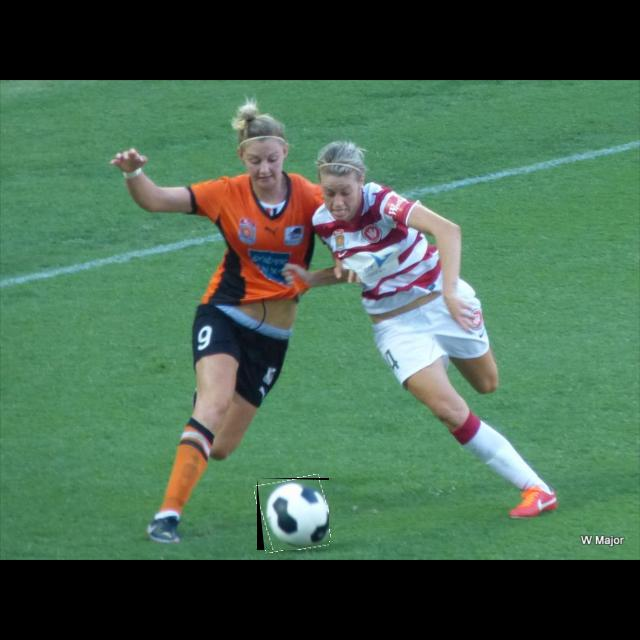Football: (257, 478, 329, 550)
